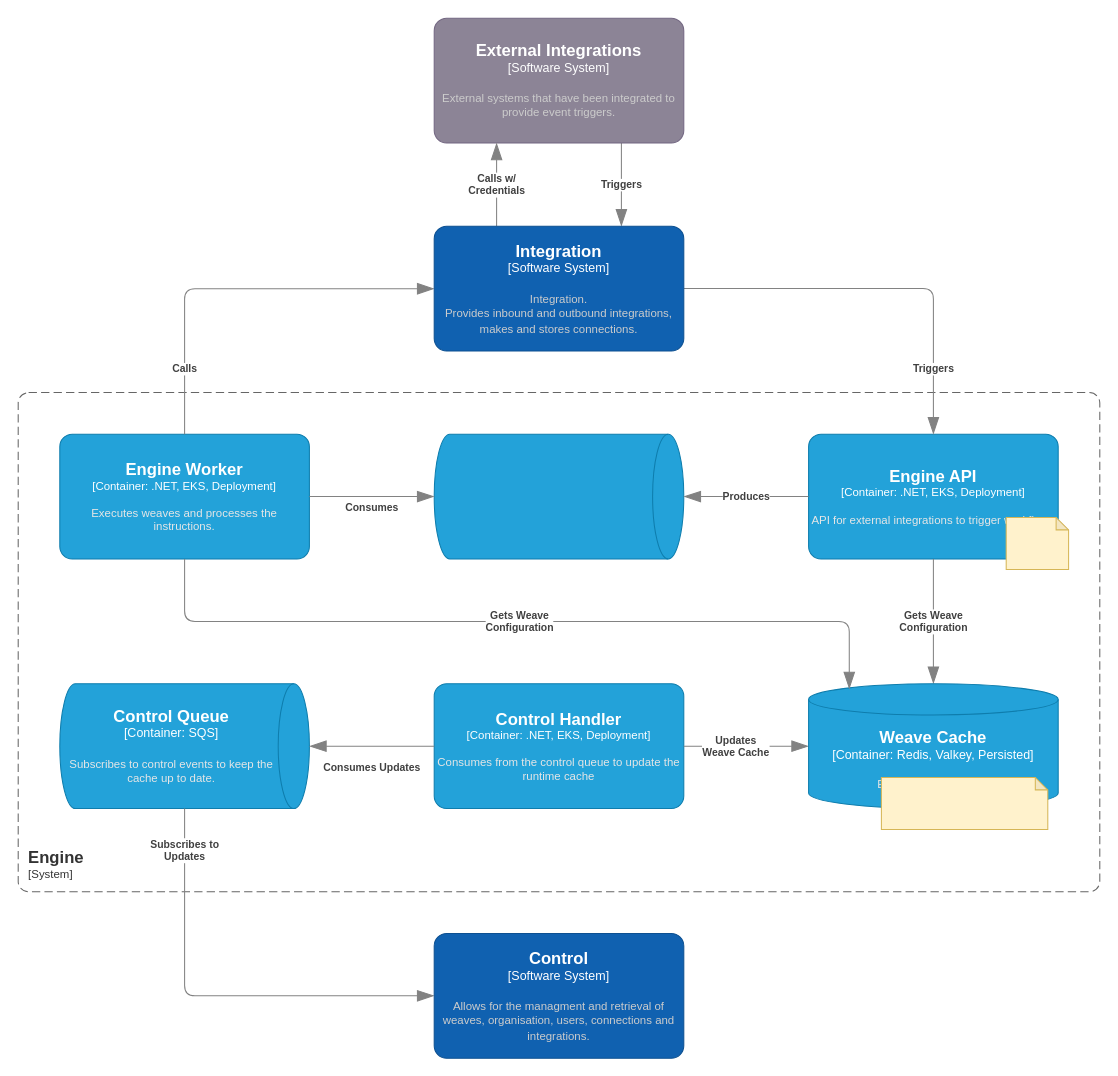
Image size: 1118x1076. Some labels were removed from this diagram. The centre of each missing label's shape, as x and y in pixels:
Could this be replicated across all nodes for local reads.: the point at 964,802
Execution Queue [Container: SQS] Queue for the Execution Triggers: the point at 558,496
Private API only.: the point at 1037,542
